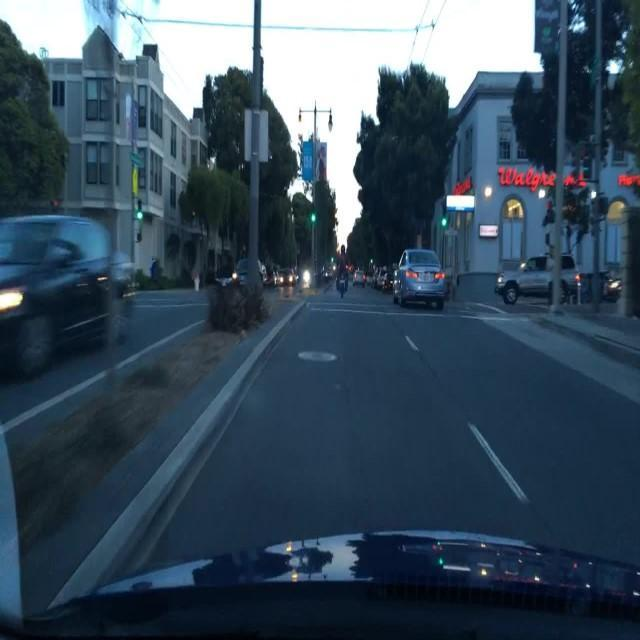normal: (0, 199, 152, 399), (363, 237, 459, 322), (487, 233, 587, 314)
